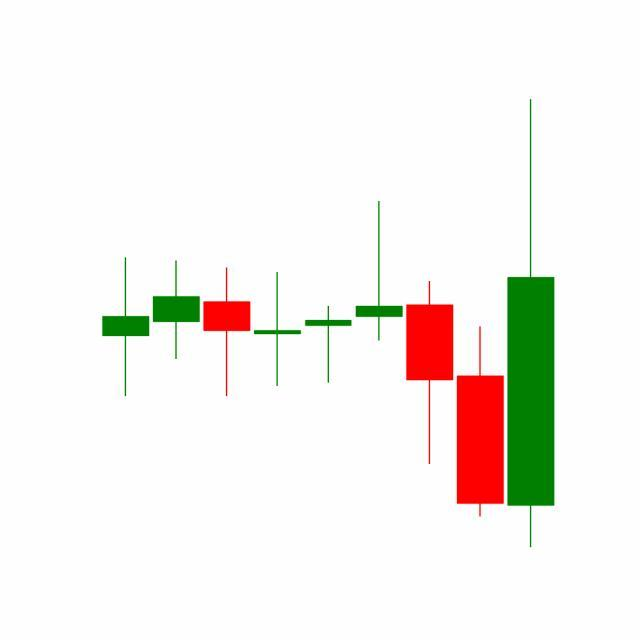Hikkake Pattern: (252, 198, 506, 521)
